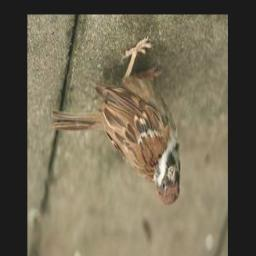Sparrow: (52, 35, 182, 209)
